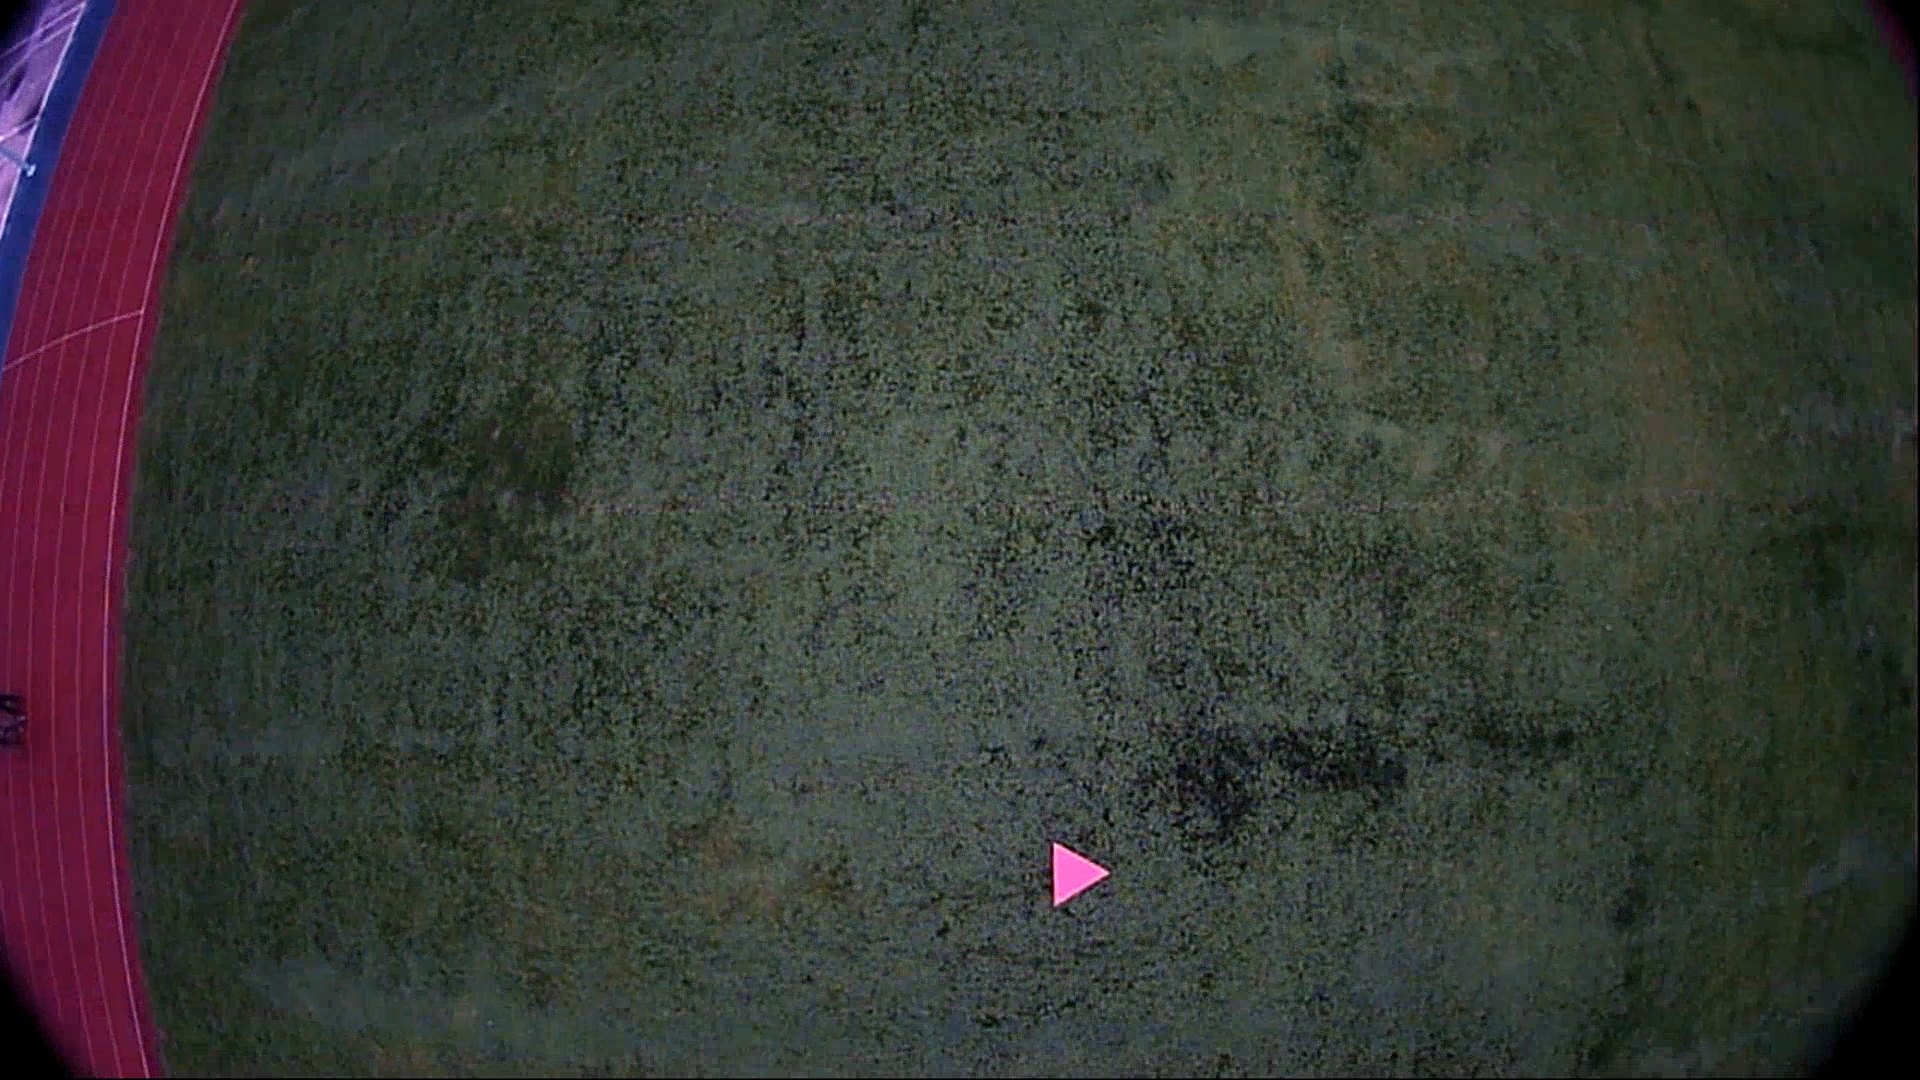triangle: (1044, 837, 1112, 913)
